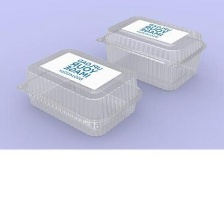plastic_box: (12, 42, 148, 140), (89, 10, 212, 95)
